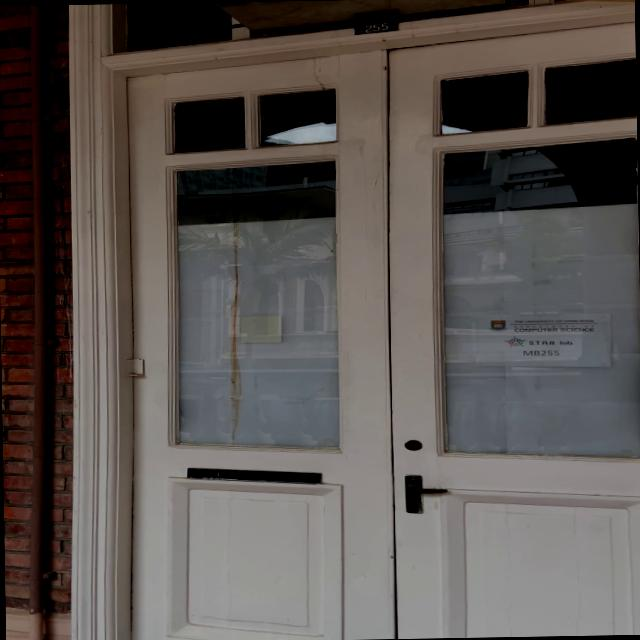room255: (352, 18, 398, 34)
